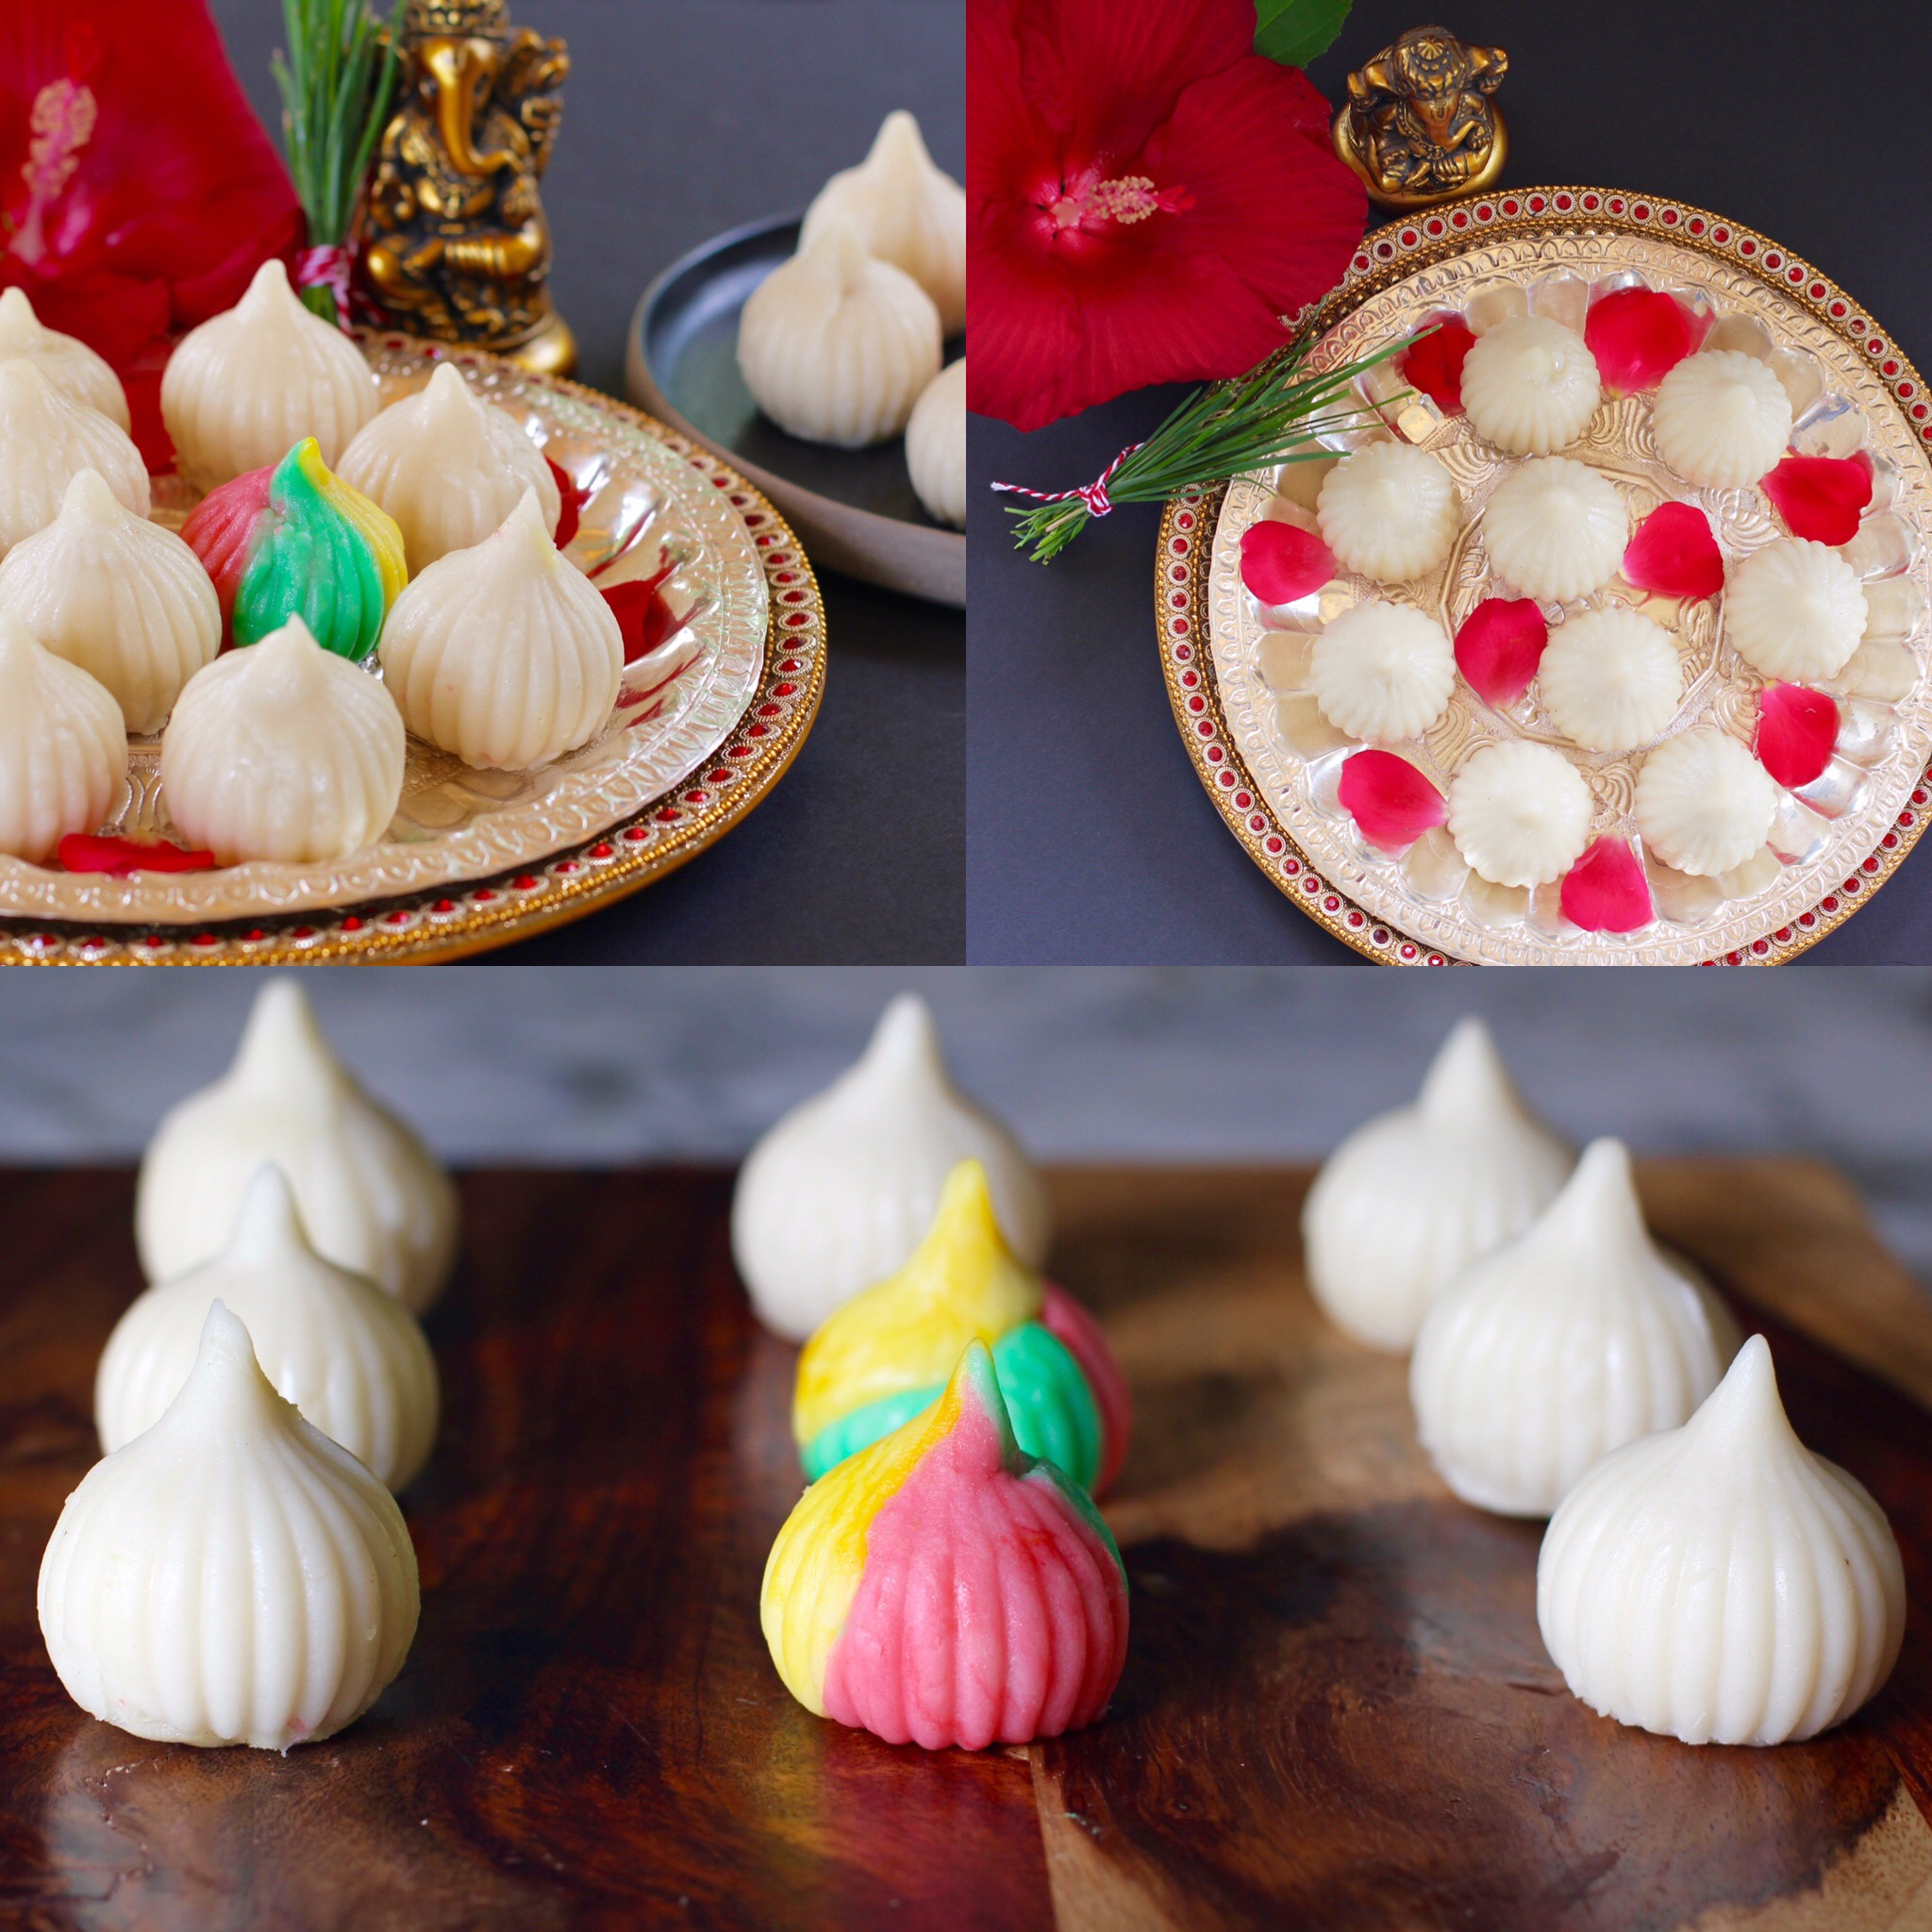modak: (16, 1154, 557, 1504), (103, 1352, 508, 1782), (1518, 1398, 1921, 1767), (1440, 1129, 1783, 1520), (734, 978, 1099, 1281), (149, 987, 529, 1256), (1313, 1033, 1603, 1315)
